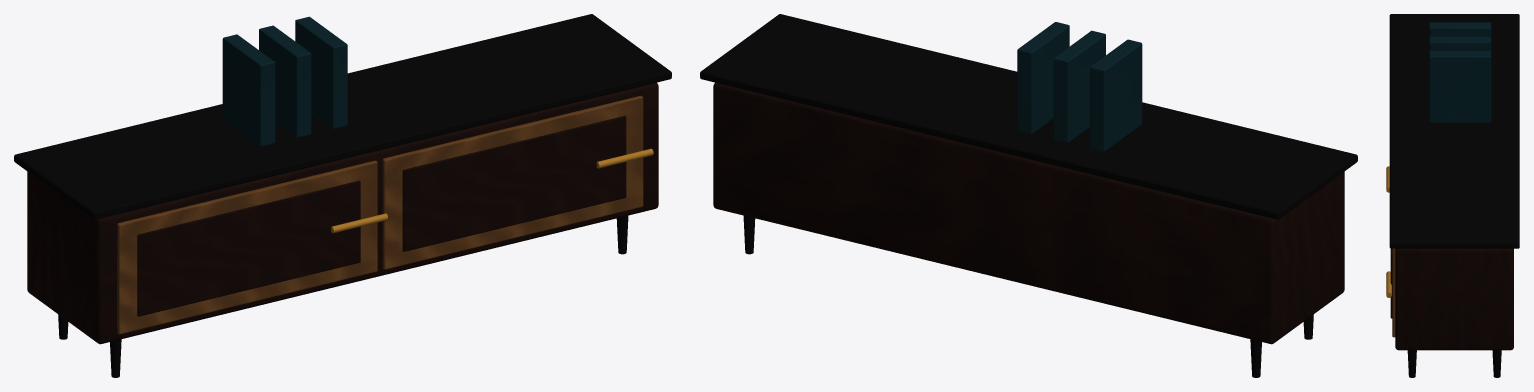
Rendered from razoredge-modern-tv-console.glb.
The picture shows the model from 3 angles, left to right: view 1: azimuth 30°, elevation 25°; view 2: azimuth 150°, elevation 25°; view 3: azimuth 270°, elevation 25°; orthographic projection. The views are drawn at different scales.
Visible parts, largest first — view 1: top, body, door_panel.001, door_panel, door, door.001, book_0, book_2, book_1; view 2: body, top, book_0, book_1, book_2; view 3: top, body, book_2, book_1, book_0, door.001, leg.003, leg.002, door_panel.001, handle.001.
Boxes of the visible parts, x1,y1,x2,y2 form: top: [14, 14, 671, 219]; body: [27, 82, 658, 344]; door_panel.001: [402, 115, 626, 251]; door_panel: [137, 180, 360, 316]; door: [117, 160, 377, 334]; door.001: [382, 95, 643, 269]; book_0: [222, 34, 275, 146]; book_2: [295, 16, 347, 129]; book_1: [259, 25, 311, 137]; body: [713, 82, 1344, 344]; top: [700, 14, 1357, 219]; book_0: [1090, 39, 1142, 151]; book_1: [1053, 30, 1105, 142]; book_2: [1017, 22, 1069, 134]; top: [1389, 14, 1519, 248]; body: [1395, 248, 1513, 350]; book_2: [1429, 51, 1491, 122]; book_1: [1429, 36, 1491, 51]; book_0: [1429, 22, 1491, 36]; door.001: [1392, 248, 1395, 337]; leg.003: [1492, 350, 1501, 377]; leg.002: [1407, 350, 1416, 377]; door_panel.001: [1390, 248, 1392, 318]; handle.001: [1386, 271, 1391, 297].
Size of the model in its own units: 1.92 by 0.84 by 0.4719.
5 materials, 4 textured.
